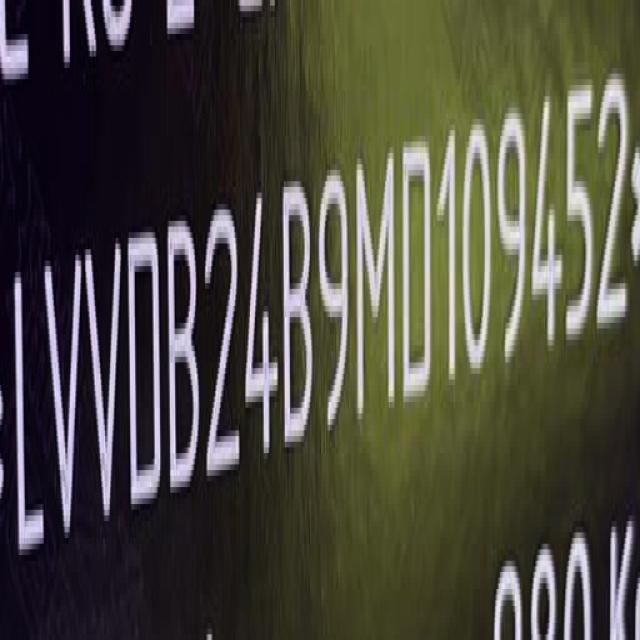0: (463, 114, 495, 388)
1: (437, 121, 460, 399)
2: (206, 207, 244, 492), (600, 66, 632, 334)
4: (245, 191, 280, 474), (530, 96, 564, 359)
5: (566, 71, 596, 346)
9: (316, 169, 351, 444), (498, 105, 530, 367)
B: (168, 217, 205, 503), (284, 178, 317, 456)
D: (126, 227, 163, 522), (400, 130, 436, 412)
L: (14, 262, 46, 570)
M: (356, 146, 400, 430)
V: (85, 235, 126, 540), (41, 250, 81, 558)
